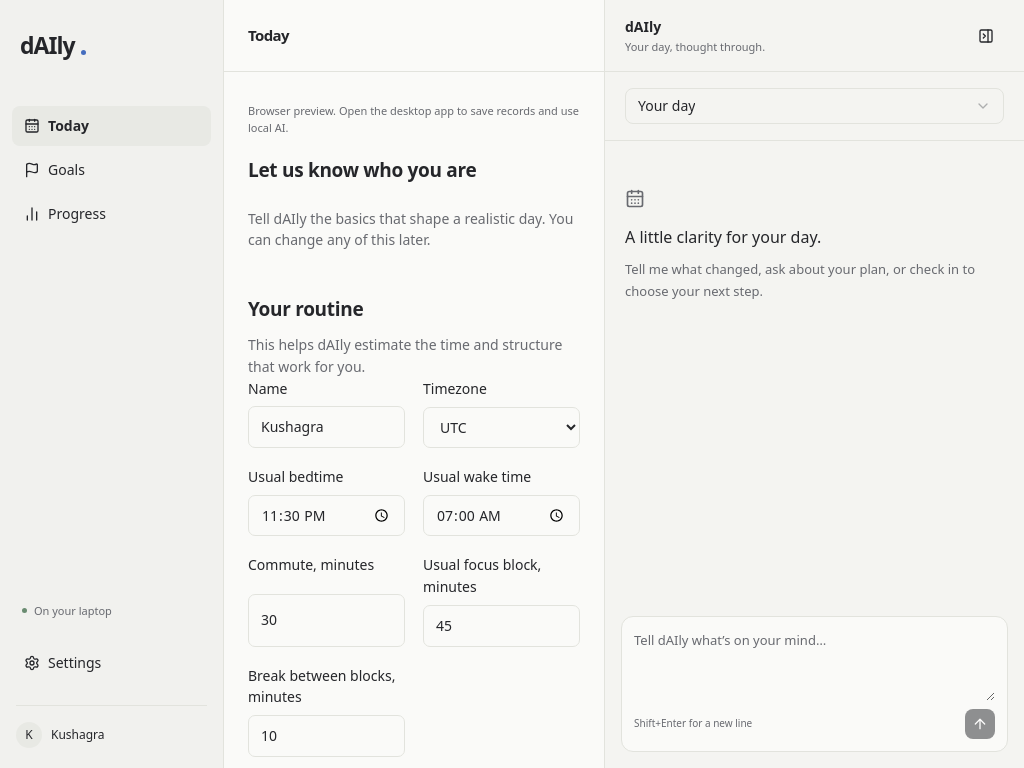
it: desktop workspace › navigates to goals from the empty plan
Step 1. Click the button "Goals" → {"x": 112, "y": 170}, box [12,150,211,190]
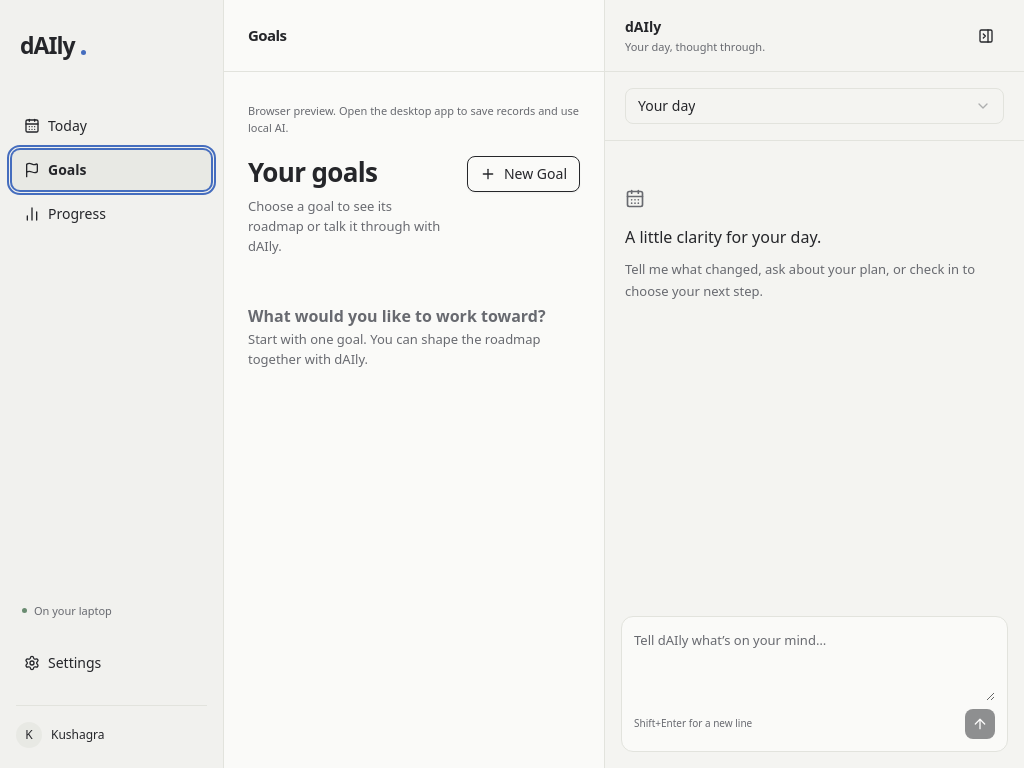
Expected: the heading "Goals" is shown, [248,24,286,47]
